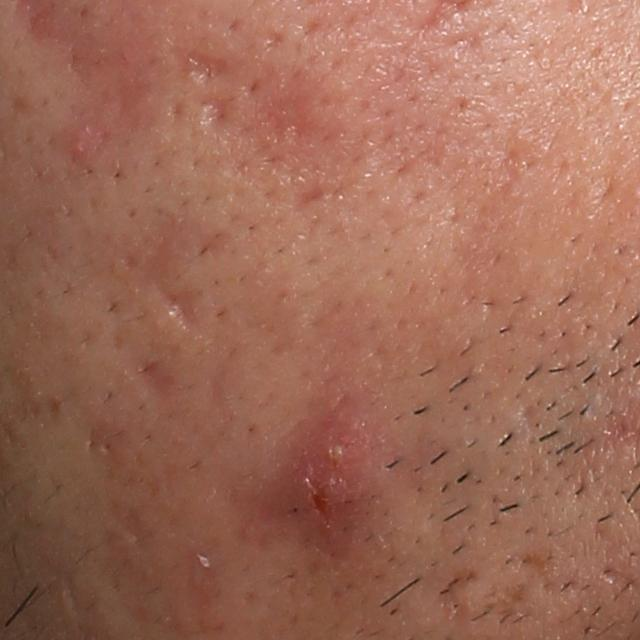atrophic_scar: (192, 75, 359, 209), (109, 208, 232, 341), (510, 536, 585, 599), (118, 356, 187, 418), (428, 561, 472, 632), (180, 39, 231, 92), (486, 585, 538, 628)
